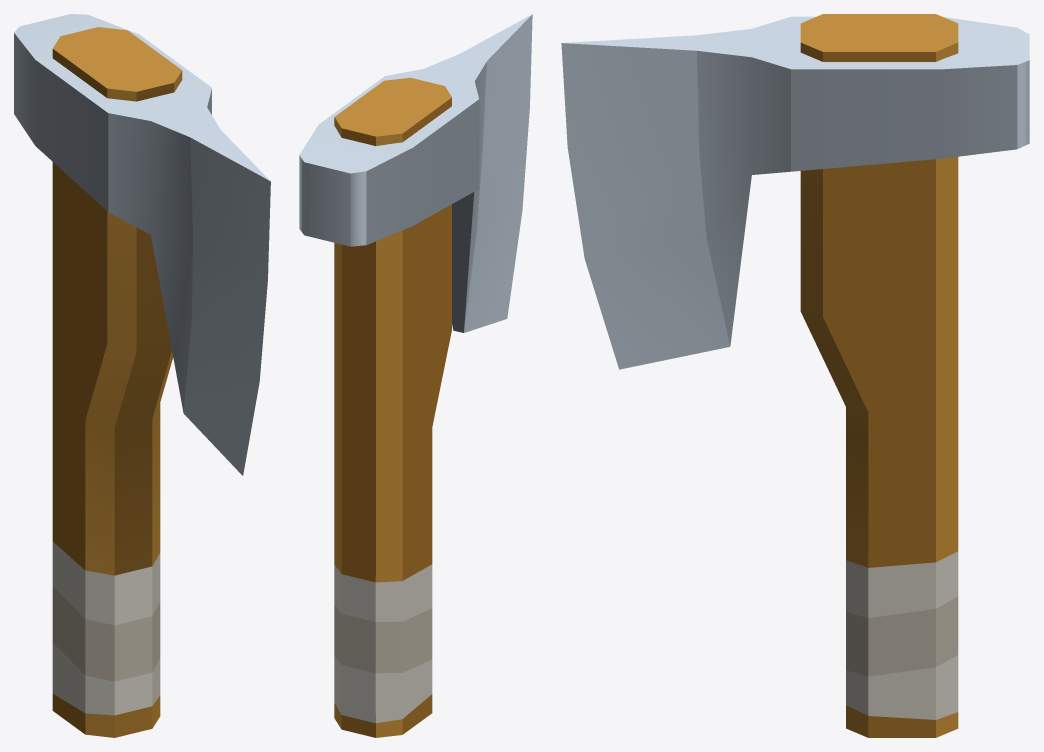
File: Axe.fbx
3 views of the same model, side by side, from view 1: azimuth 30°, elevation 25°; view 2: azimuth 150°, elevation 25°; view 3: azimuth 270°, elevation 25° (orthographic). The views are drawn at different scales.
Parts seen in each view (by area): view 1: Axe; view 2: Axe; view 3: Axe.
Part boxes in pixels (x1=…): Axe: x1=14, y1=14, x2=270, y2=737; Axe: x1=299, y1=14, x2=532, y2=737; Axe: x1=561, y1=14, x2=1029, y2=737.
Bounding box in the file's own units: 16.62 × 101 × 62.59.
